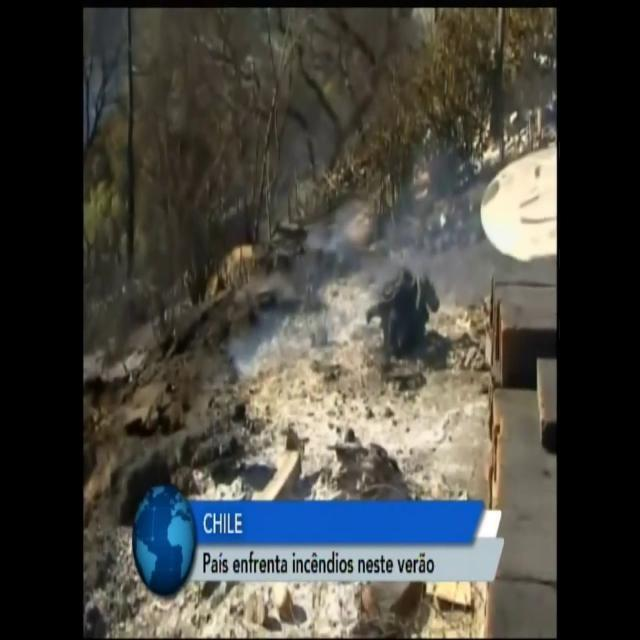Smoke: (226, 190, 488, 377)
